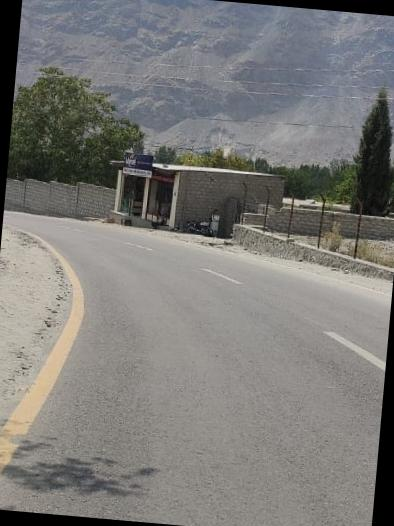left_turn: (0, 120, 289, 307)
